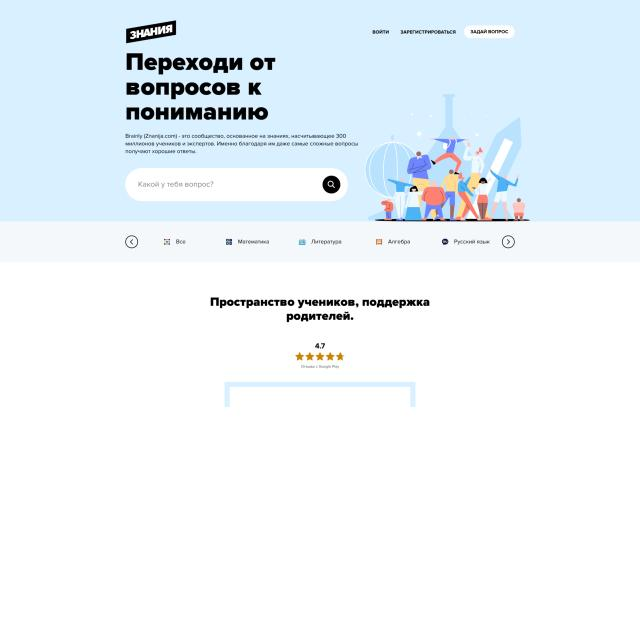input: (124, 166, 349, 203)
logo: (124, 18, 180, 46)
navigation: (371, 22, 517, 40)
